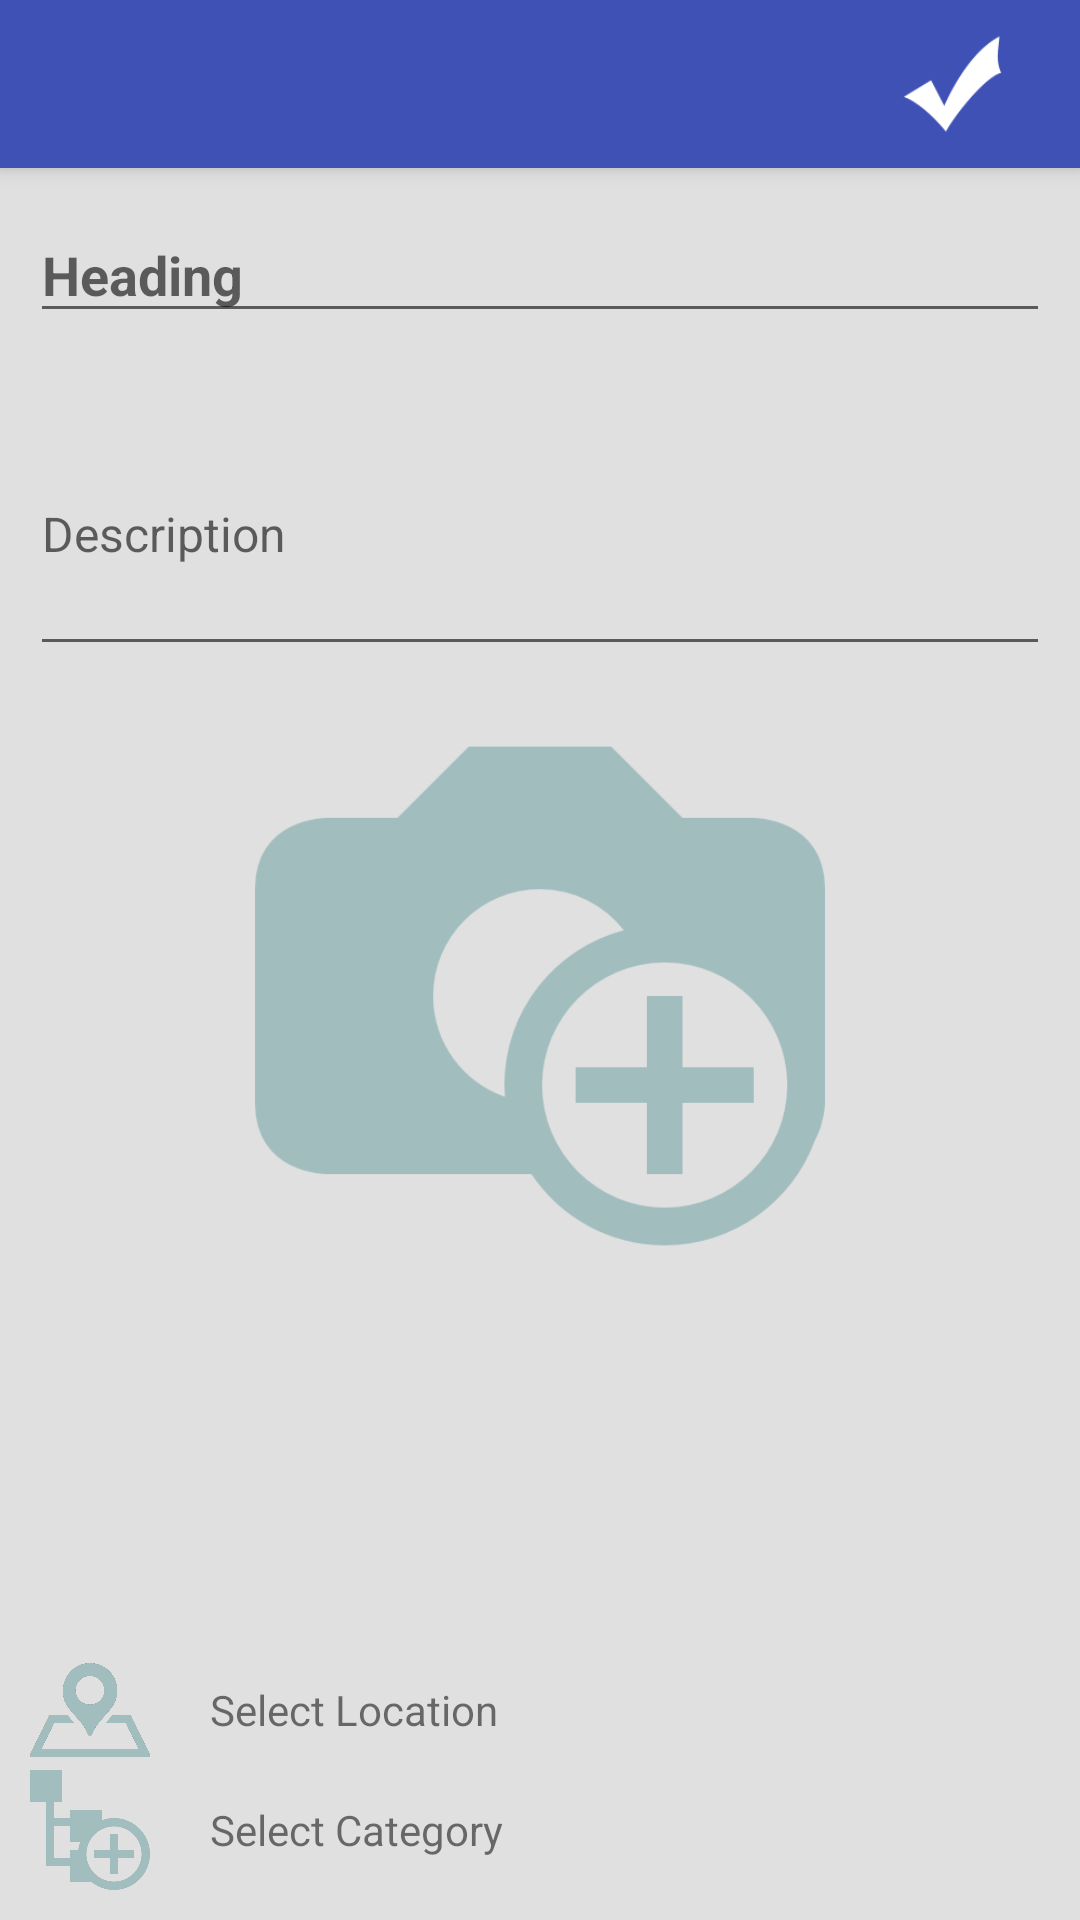

Icons on this 1080 x 1920 Android screen, each with the point to tap as (x=x, y=y):
category add: (x=90, y=1830)
location add: (x=90, y=1710)
tick: (x=952, y=84)
